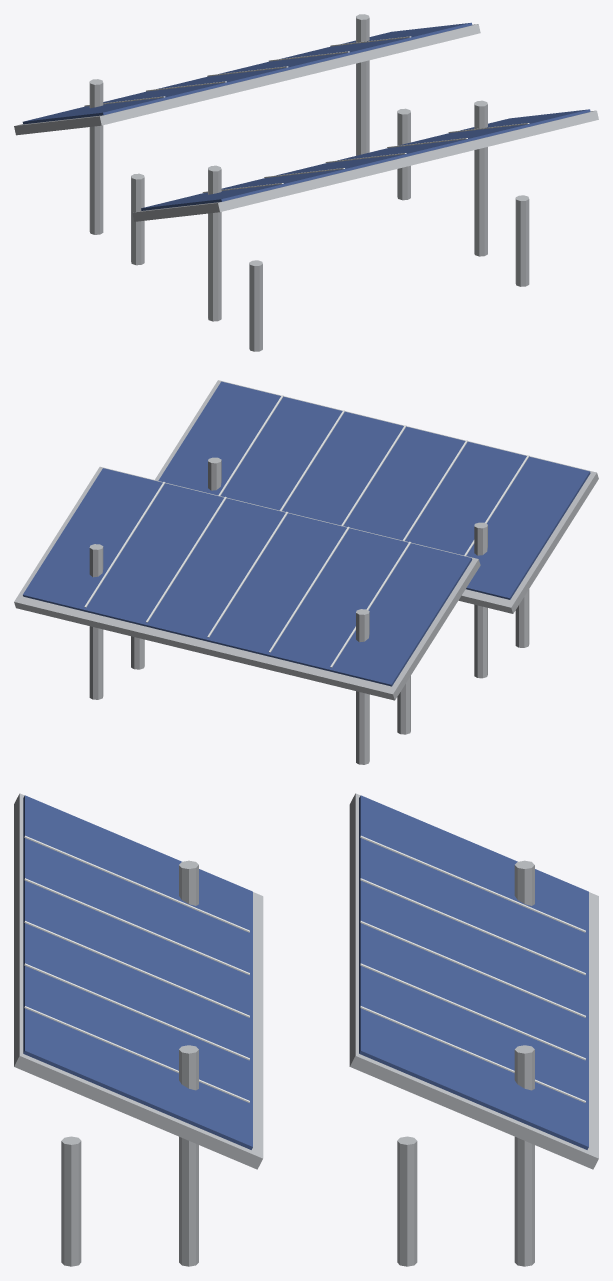
The model's file is solar.fbx.
3 views of the same model, one above another, from view 1: azimuth 30°, elevation 25°; view 2: azimuth 150°, elevation 25°; view 3: azimuth 270°, elevation 25° (orthographic). The views are drawn at different scales.
Visible parts, largest first — view 1: solar; view 2: solar; view 3: solar.
Boxes of the visible parts, <box> form: solar: <box>14,14,598,351</box>; solar: <box>14,380,598,764</box>; solar: <box>14,793,598,1266</box>.
Size of the model in its own units: 1.85 by 0.8182 by 1.74.
